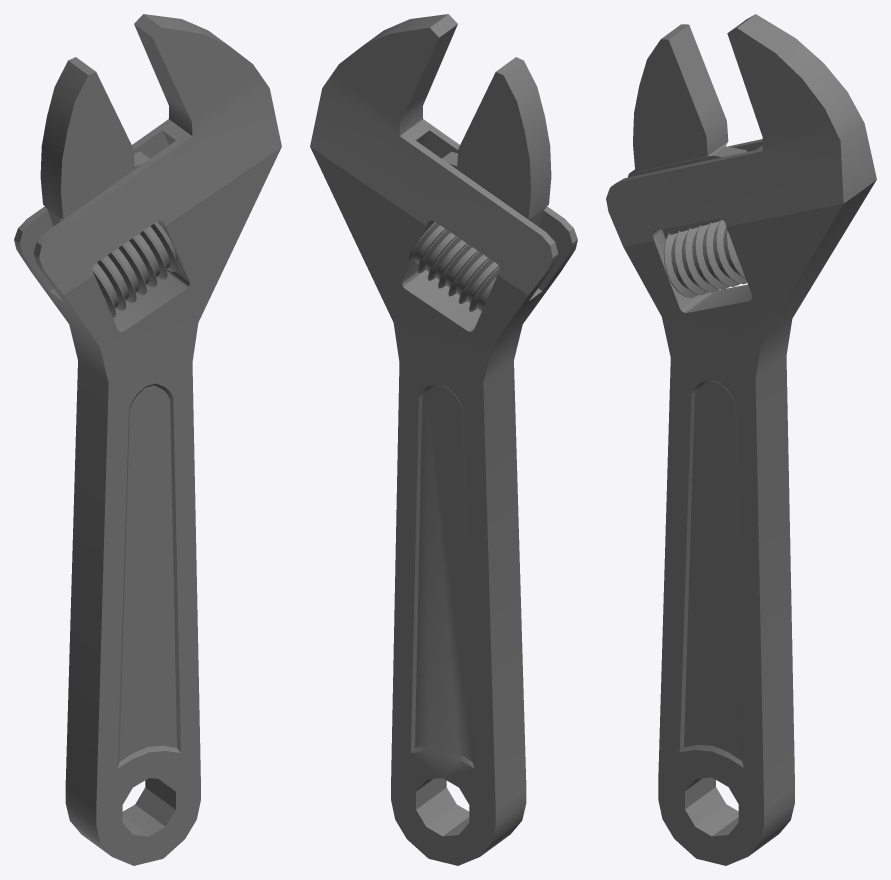
File: spanner.fbx
The picture shows the model from 3 angles, left to right: view 1: azimuth 30°, elevation 25°; view 2: azimuth 150°, elevation 25°; view 3: azimuth 330°, elevation 25°; orthographic projection.
Visible parts, largest first — view 1: Plane.002; view 2: Plane.002; view 3: Plane.002.
Part boxes in pixels (box(x1,y1,x2,y2)): Plane.002: box(14, 14, 281, 865); Plane.002: box(310, 14, 577, 865); Plane.002: box(606, 14, 876, 865).
Size of the model in its own units: 96.28 by 318 by 25.72.
